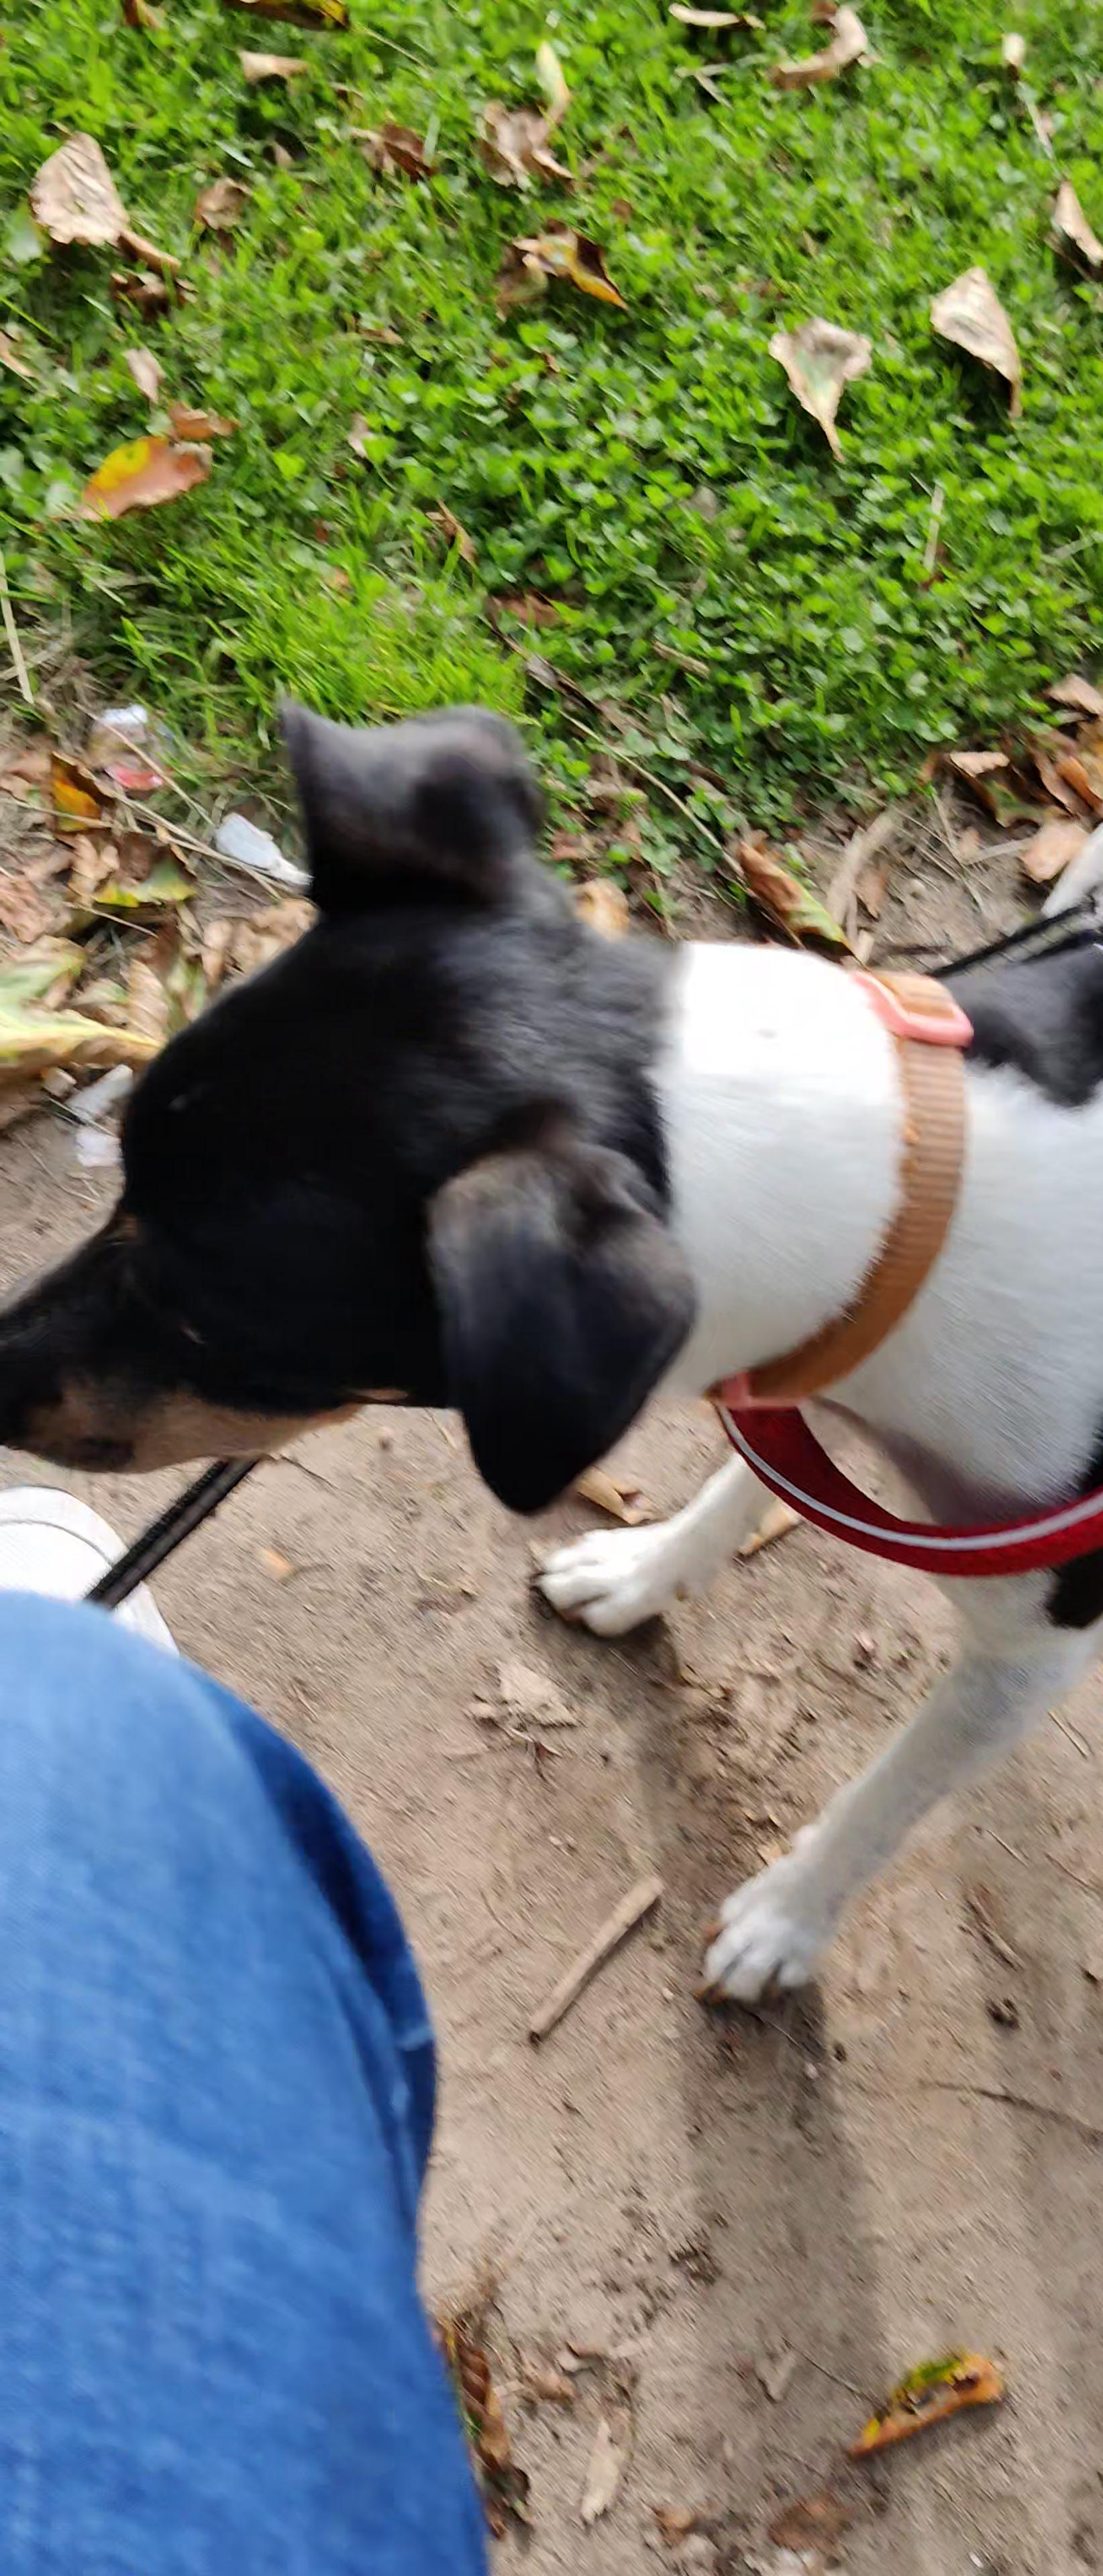Dog: (0, 677, 1103, 2032)
